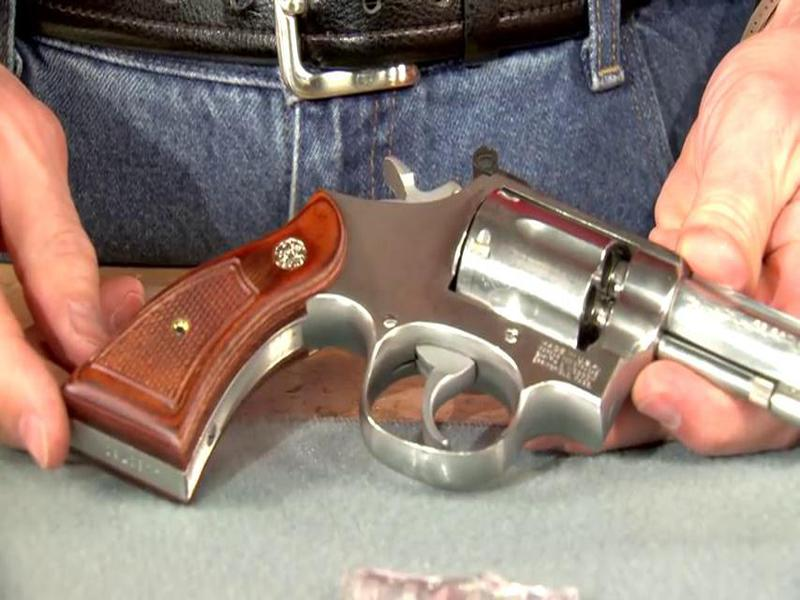Revolver: (77, 132, 800, 546)
